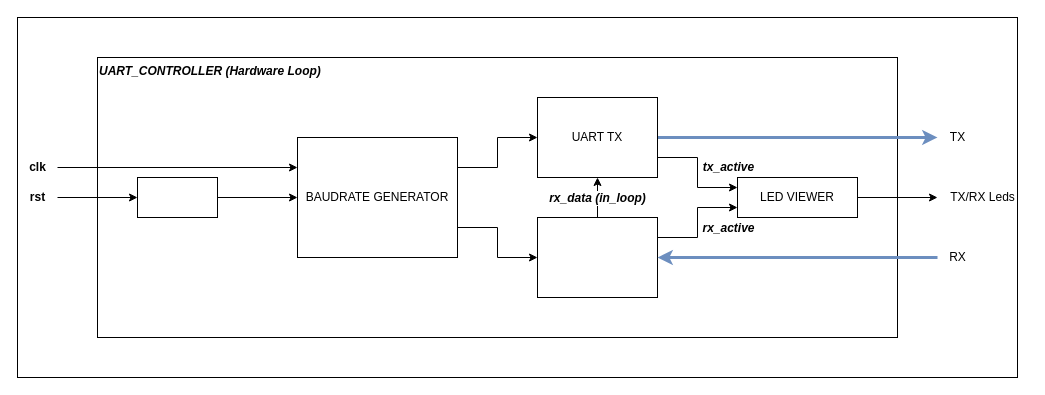
Some shapes in this 1045 by 395 pixel diagram are drawn without their labels. Here are the shapes that lost their labels. From the top down, the box of each, then its label:
(136, 176, 218, 218): RST SYNC
(536, 216, 658, 298): UART RX
